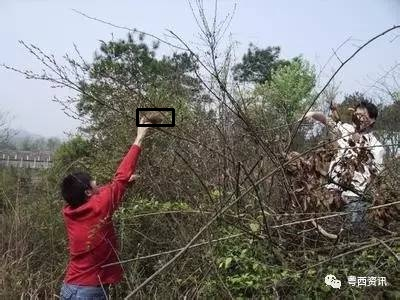bird-nest: (137, 109, 173, 125)
